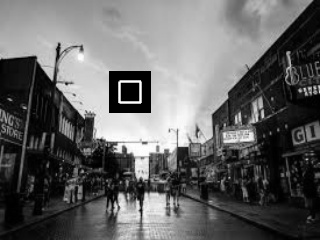square: (109, 71, 151, 113)
